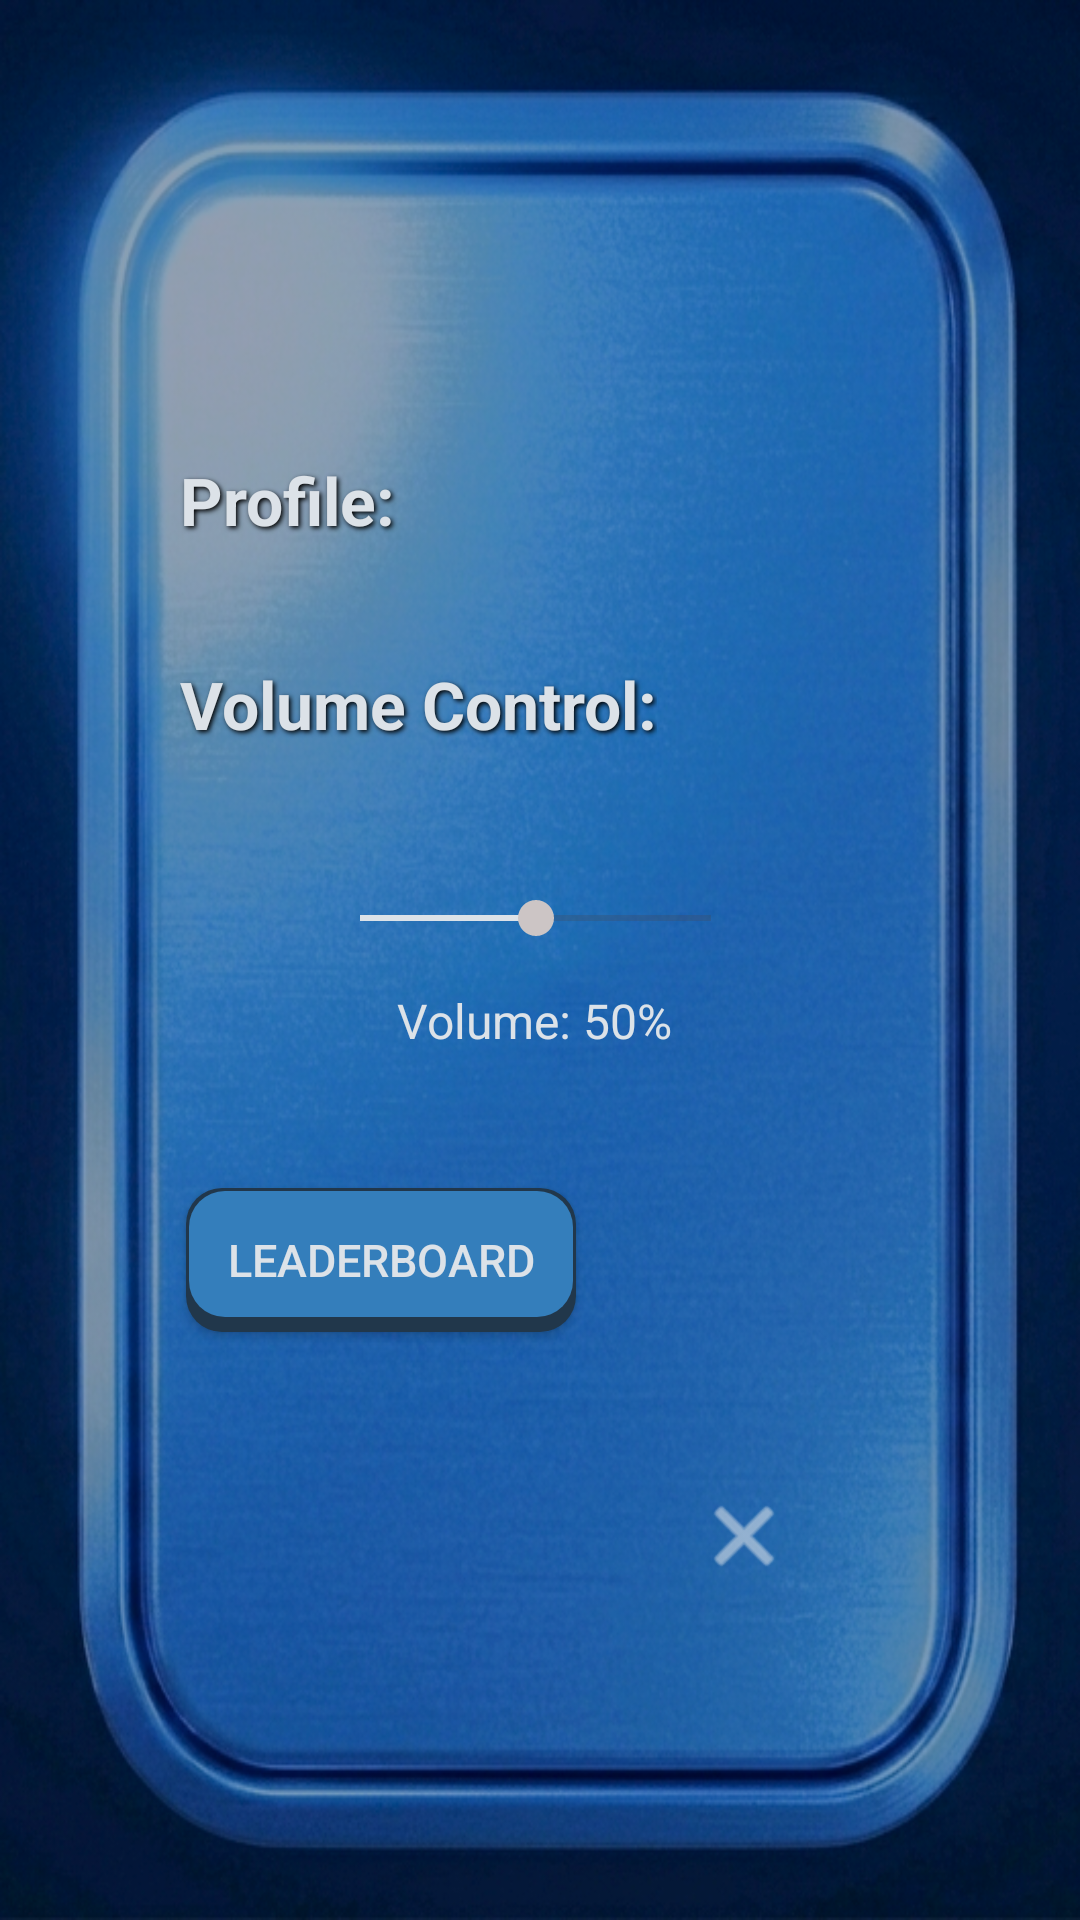

Icons on this 1080w x 1920h Android screen, each with its box as (x1, y1, x2, y2):
close clear cancel: (714, 1506, 774, 1566)
